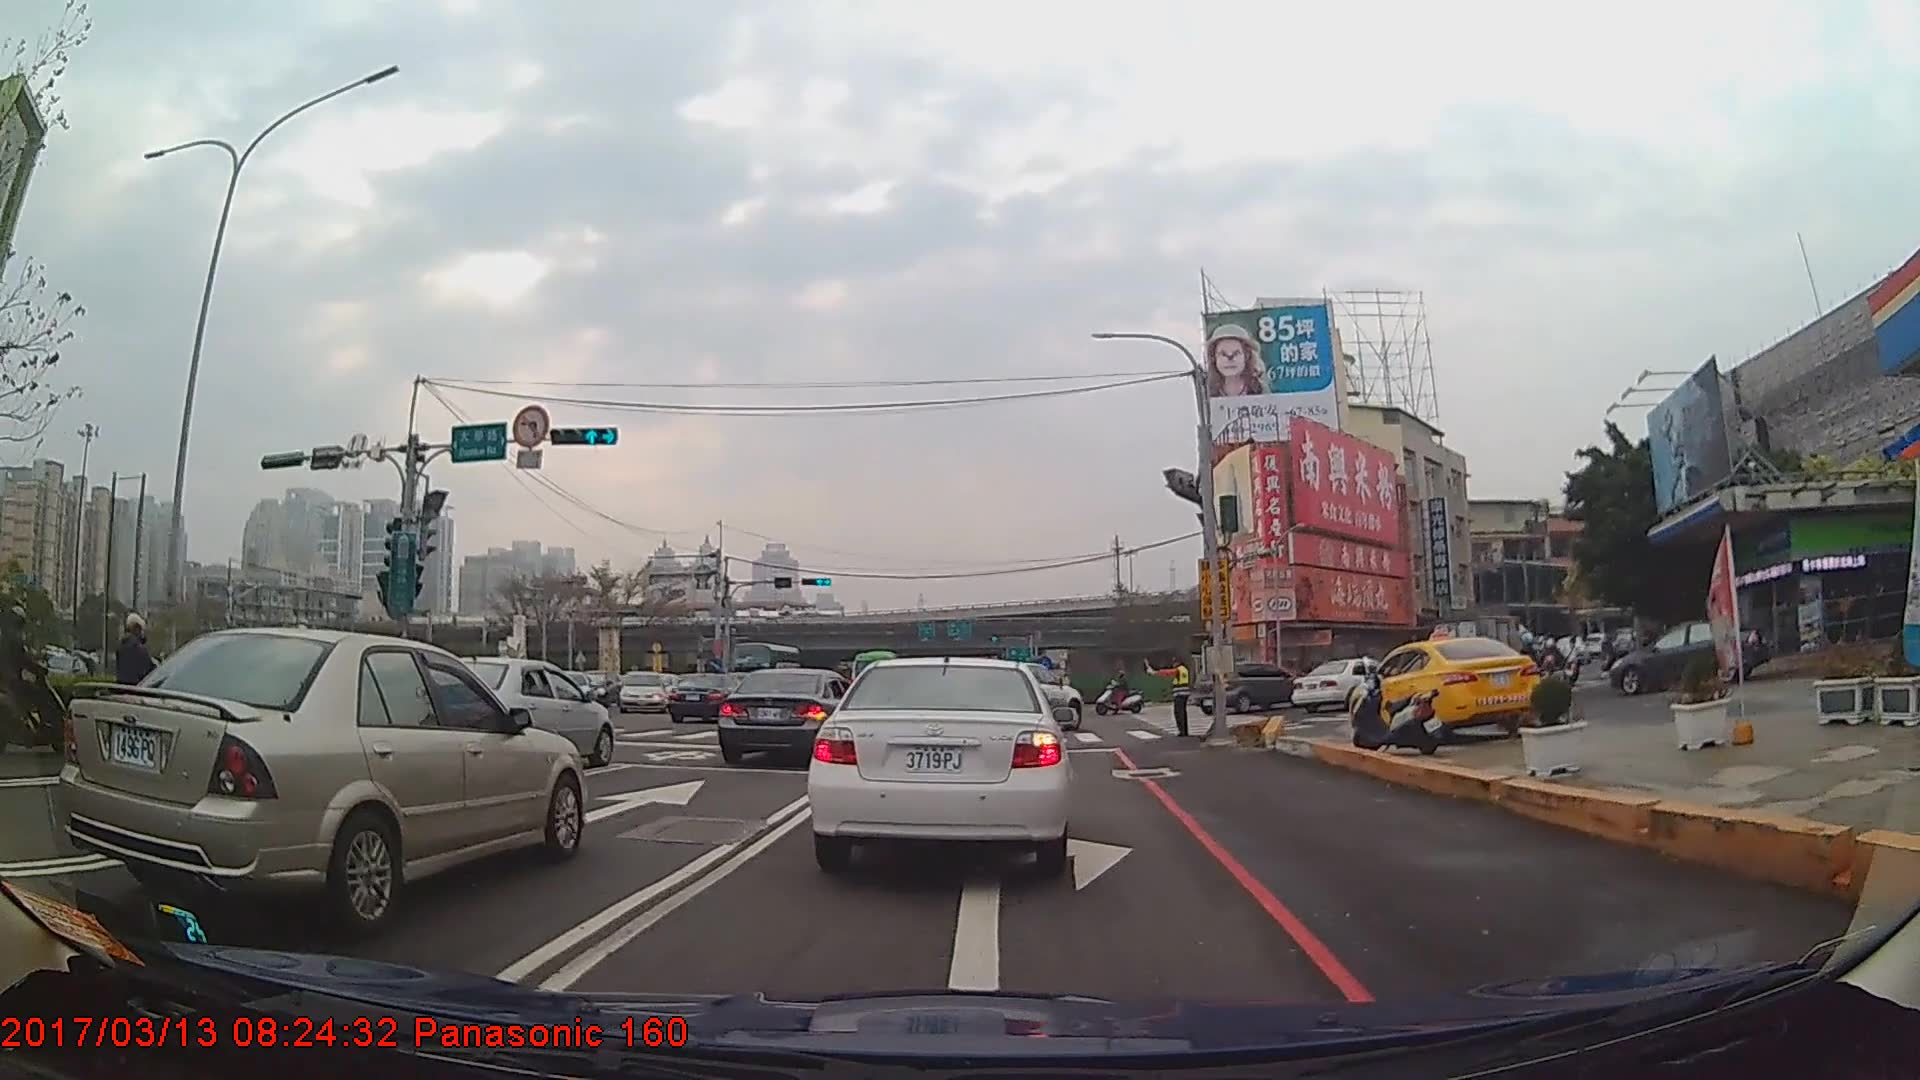pedestrian: (1139, 659, 1194, 739)
rider: (98, 616, 181, 774), (3, 606, 77, 761), (1098, 672, 1143, 721), (1539, 637, 1563, 693)
vehicle: (62, 626, 586, 931), (807, 648, 1076, 871), (1347, 636, 1543, 745), (423, 655, 613, 766), (717, 667, 861, 769), (1607, 618, 1767, 696), (1425, 617, 1535, 680), (1192, 659, 1307, 714), (1292, 657, 1396, 712), (667, 671, 758, 725), (616, 671, 661, 716)
